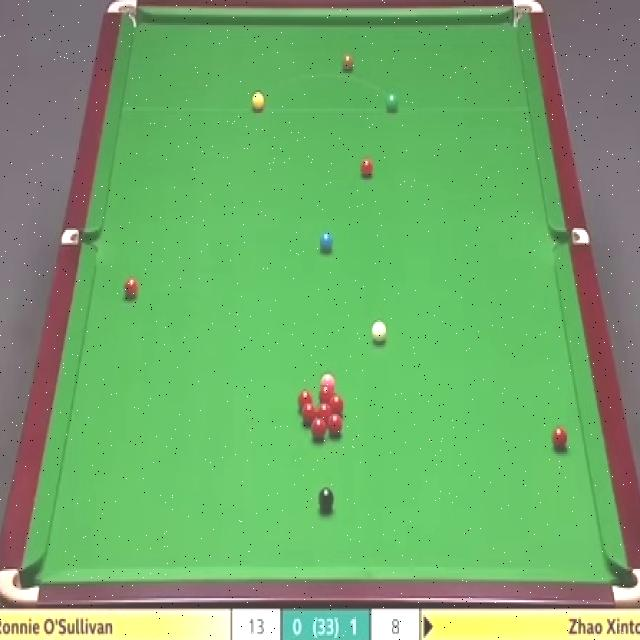black-ball: (318, 486, 336, 511)
blue-ball: (319, 230, 333, 255)
brown-ball: (340, 53, 355, 74)
green-ball: (384, 90, 398, 112)
pink-ball: (320, 374, 334, 392)
red-ball: (552, 425, 568, 452), (359, 156, 374, 180), (123, 276, 139, 298), (319, 399, 334, 422), (312, 418, 326, 442), (327, 414, 342, 436), (333, 394, 348, 414), (299, 388, 312, 410), (302, 403, 315, 424), (319, 390, 333, 401)
white-ball: (371, 318, 388, 344)
yellow-ball: (251, 92, 264, 112)
